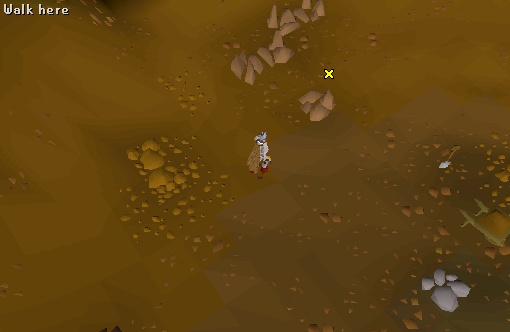copper: (293, 82, 344, 129), (220, 45, 271, 92), (250, 26, 301, 73)
